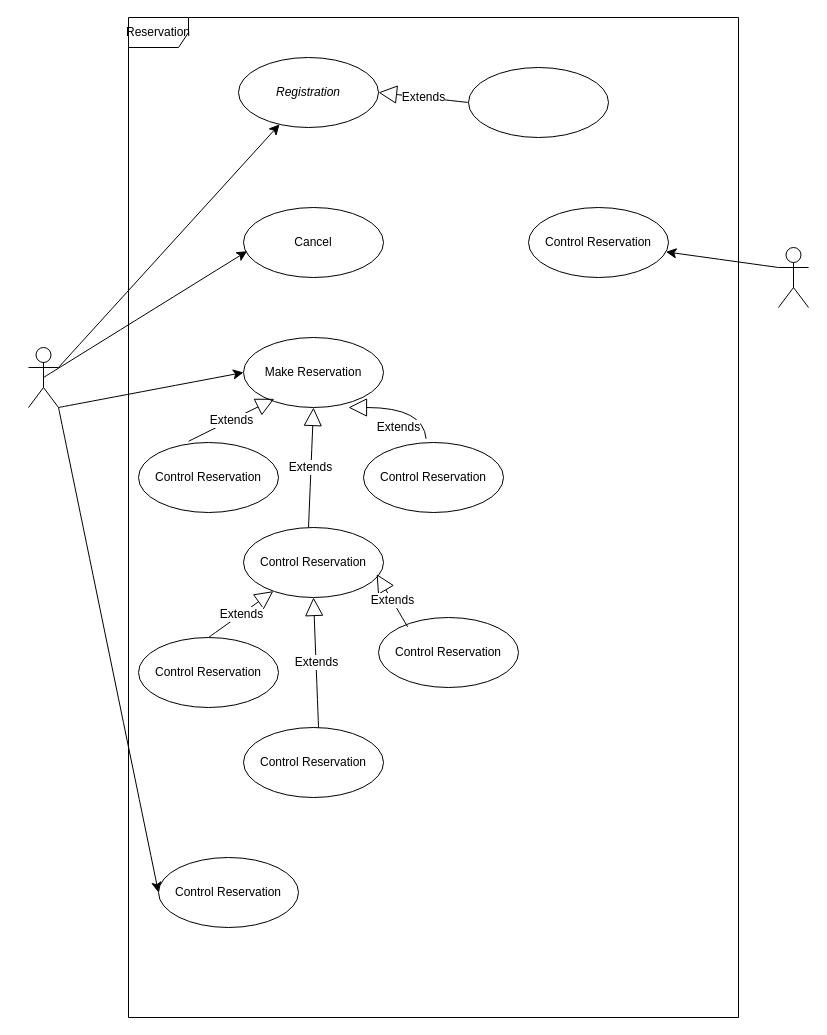
The diagram is 827 pixels wide and 1035 high, and some of its shapes have lost their labels. Each missing label, with the centre of its shape:
Admin: the point at 793,277
Customer: the point at 43,377
Store Information: the point at 538,102
